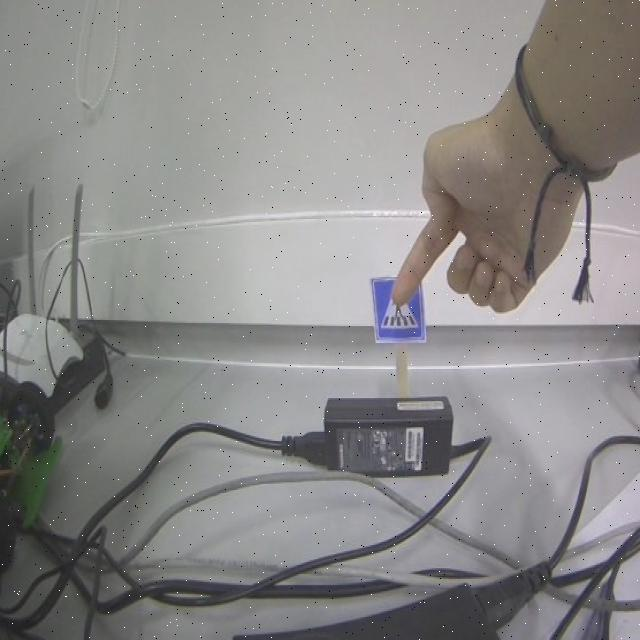Rambu Penyebrangan: (371, 277, 425, 344)
